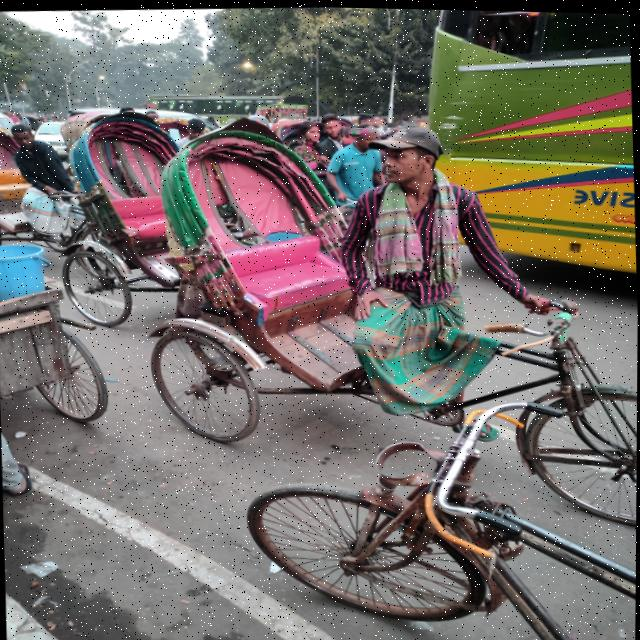rikshaw: (174, 114, 639, 531), (46, 87, 305, 320)
